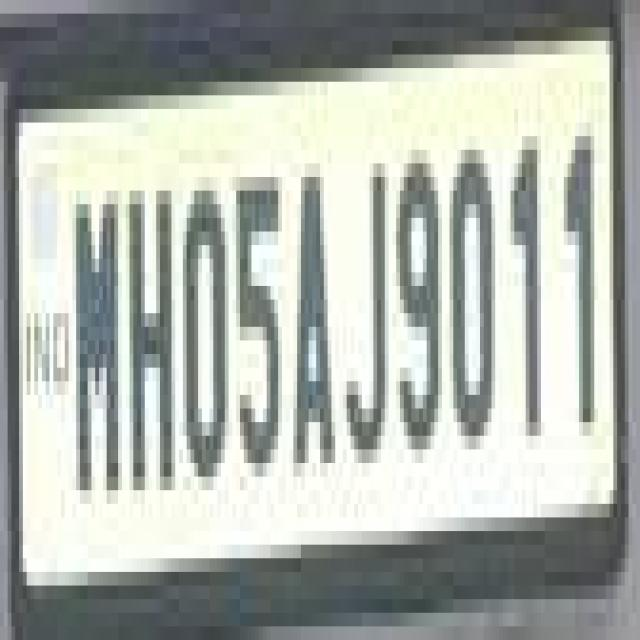license_plate: (4, 0, 613, 599)
